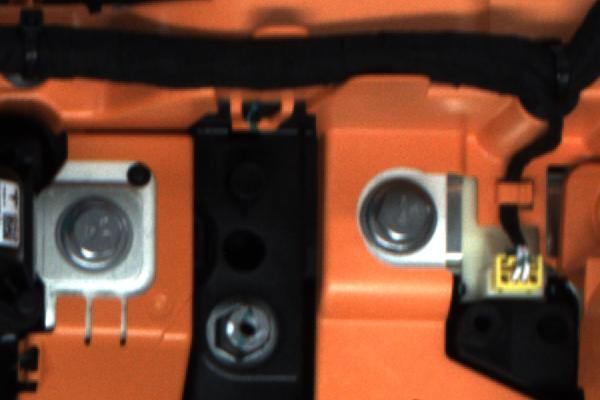nut_b: (355, 171, 450, 266), (46, 191, 138, 283)
